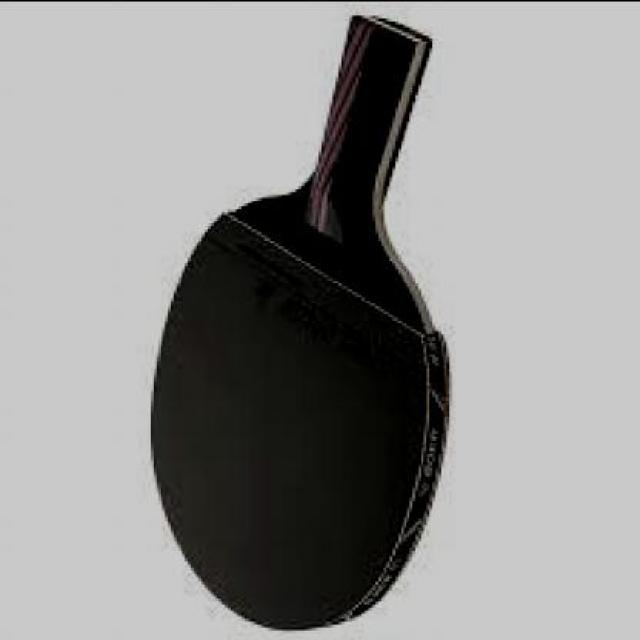table_tennis_racket: (140, 188, 458, 632)
